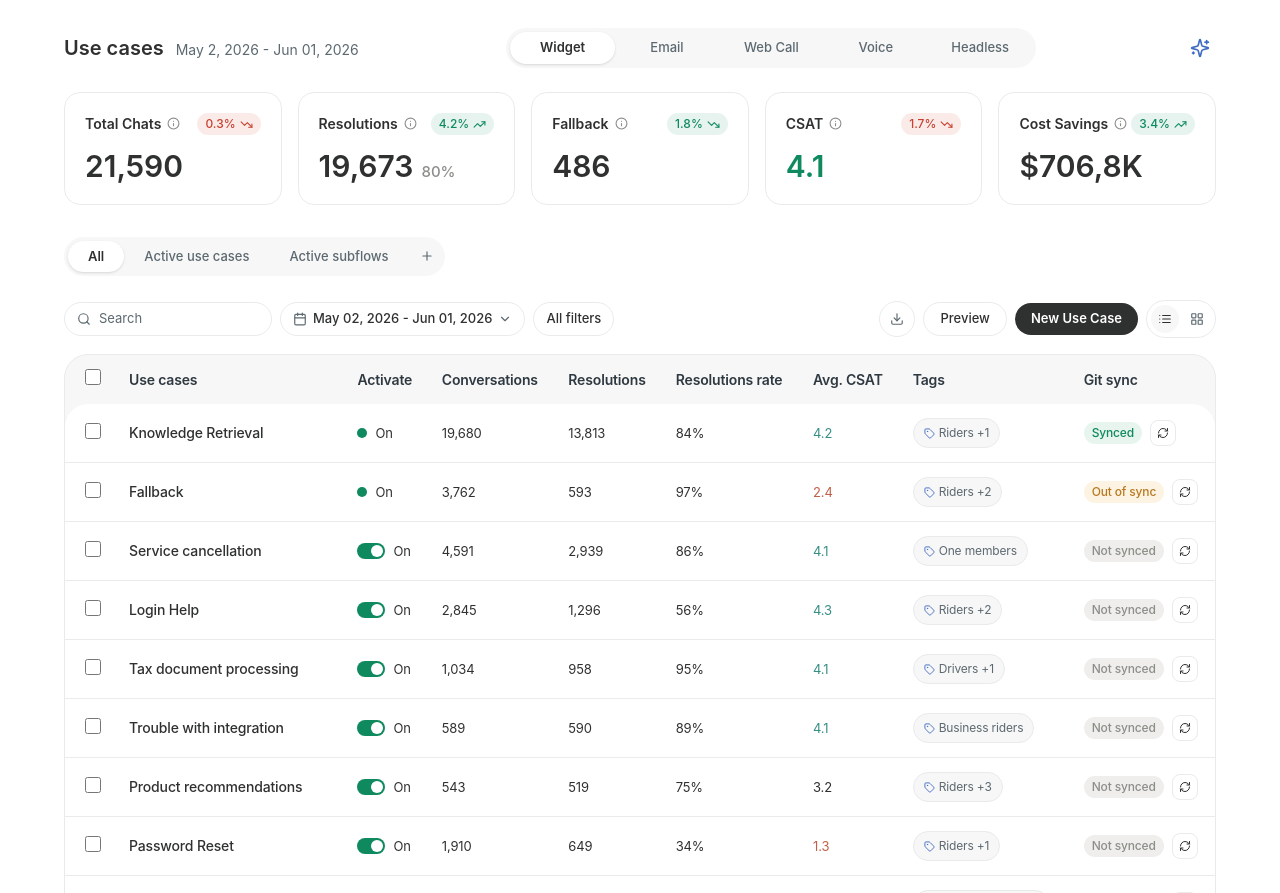
Test case: AgentBuilderScreen › select-all toggles every visible row and clears on channel switch
This screenshot has width=1280, height=893.
Click the checkbox named "Select all use cases" at {"x": 93, "y": 377}, box x1=85 y1=369 x2=101 y2=385
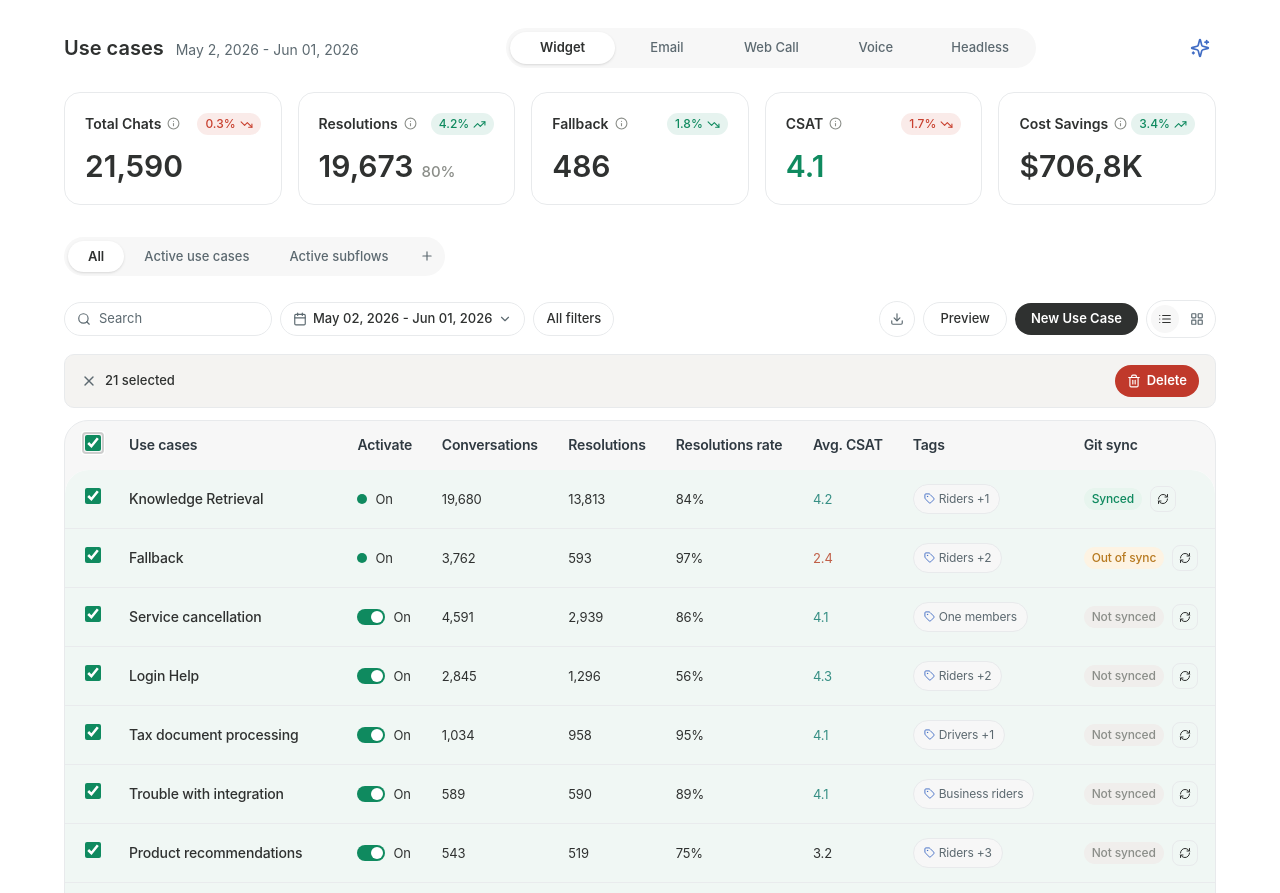
Result: the text "21 selected" is shown at x1=105 y1=371 x2=175 y2=390
// Switching channel resets selection.
Click the tab "Voice" at {"x": 876, "y": 48}, box x1=824 y1=32 x2=928 y2=64
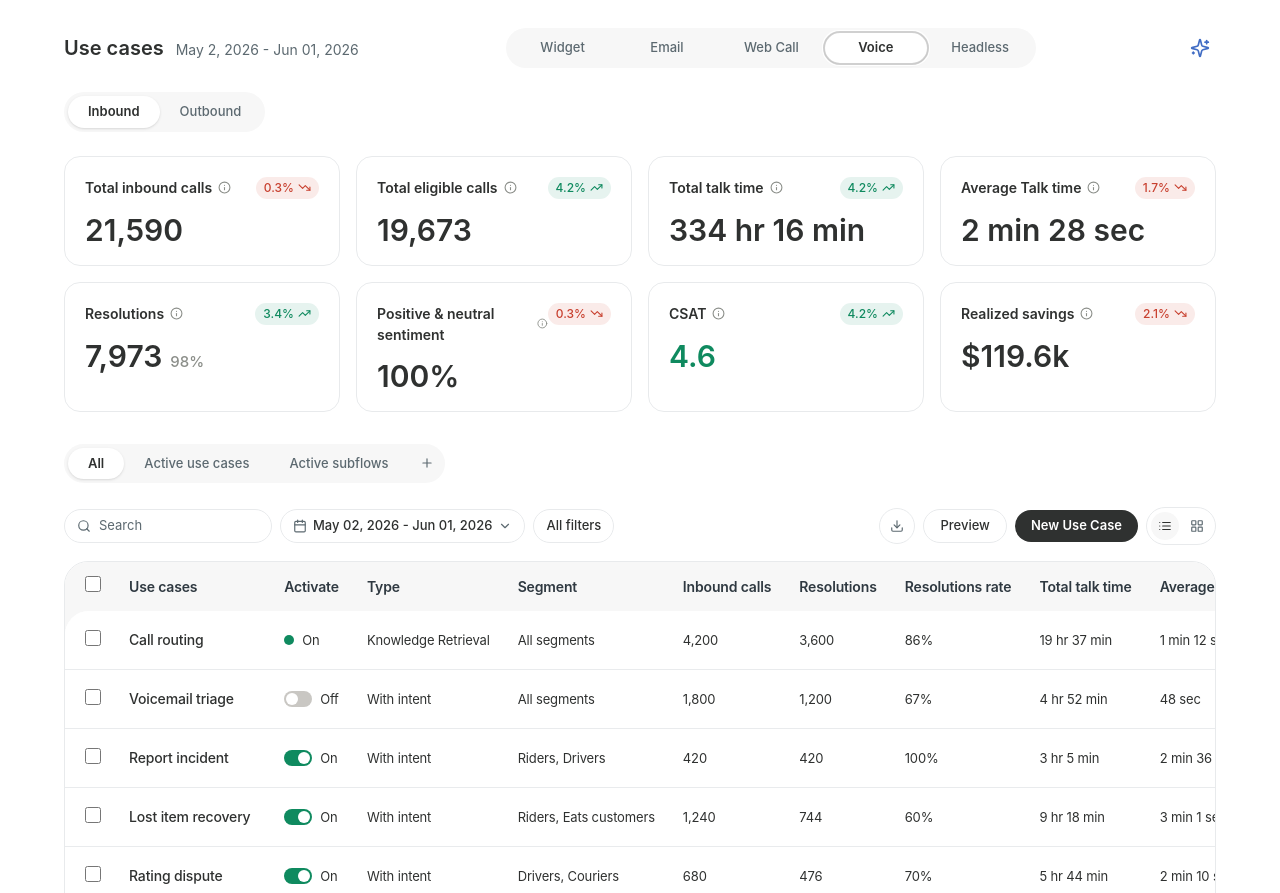
Result: the text "selected" is gone
